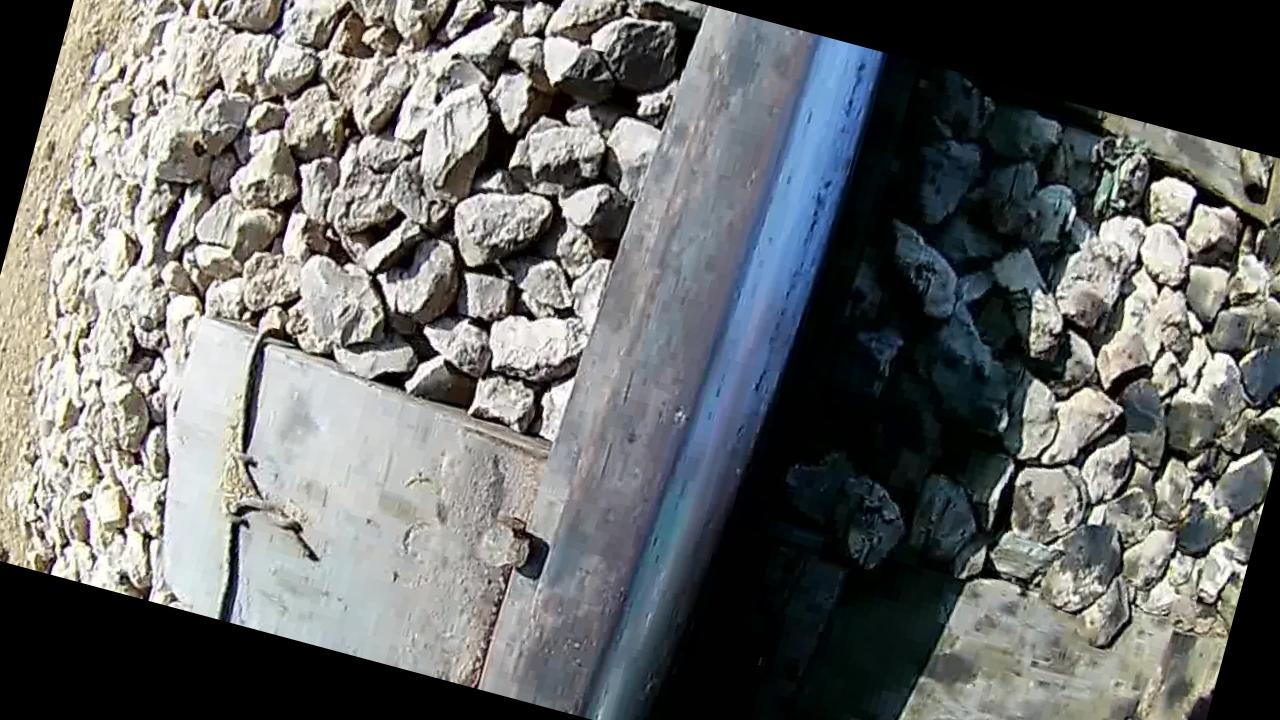crack: (540, 13, 884, 720)
